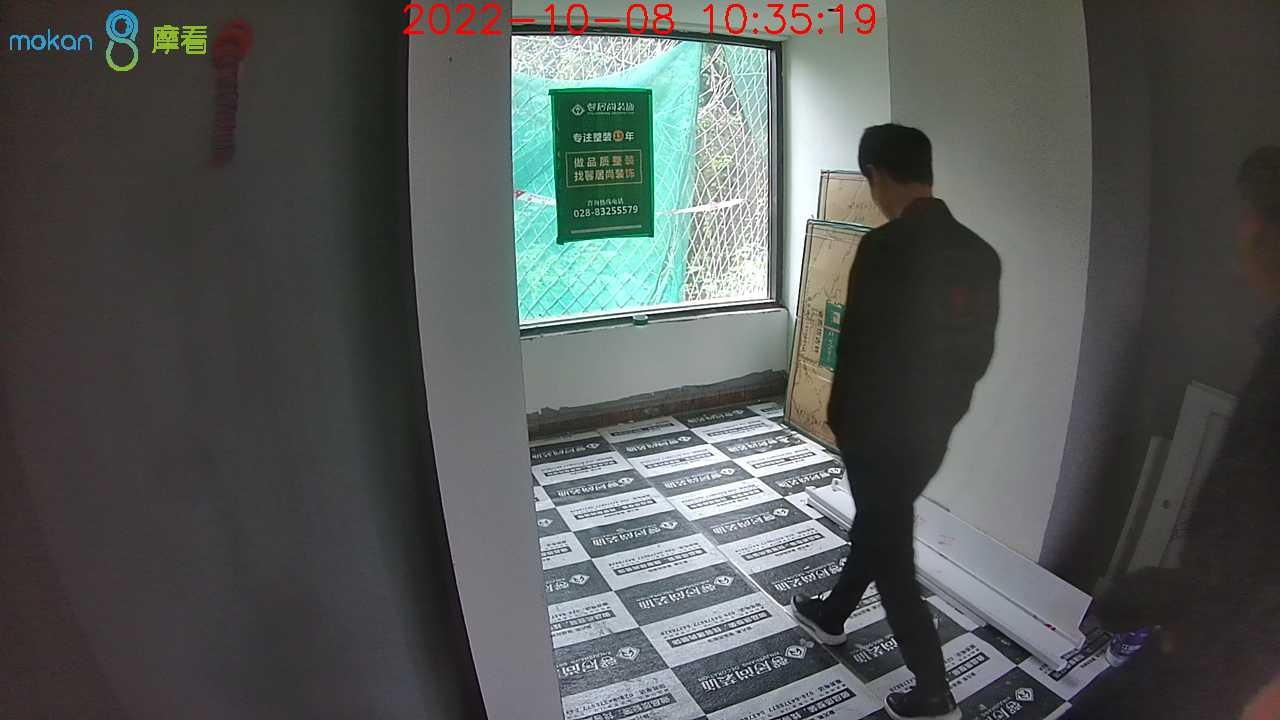people: (793, 122, 1004, 720)
window: (512, 23, 782, 329)
